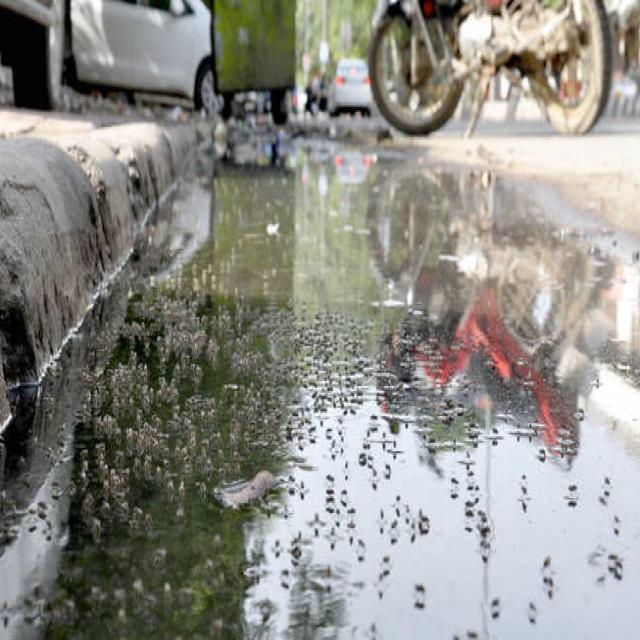Breeding Place: (0, 126, 640, 640)
